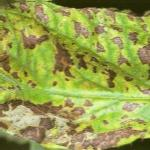Tomato leaf bacterial spot: (1, 2, 149, 146)
